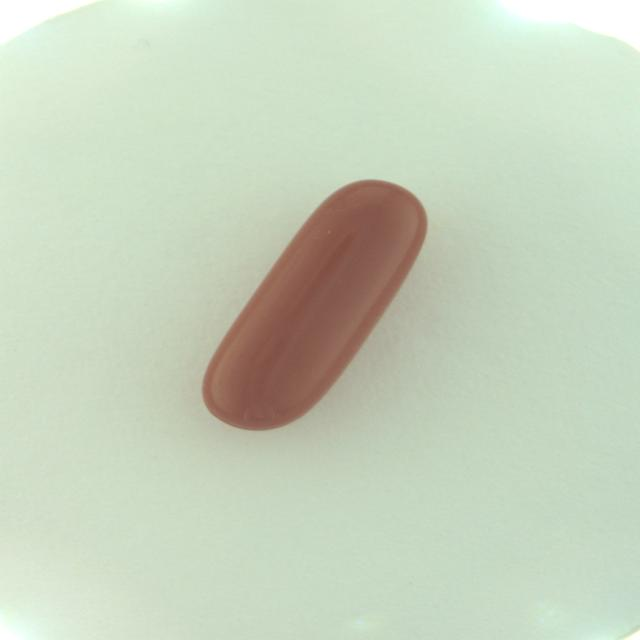Oval: (199, 178, 429, 435)
